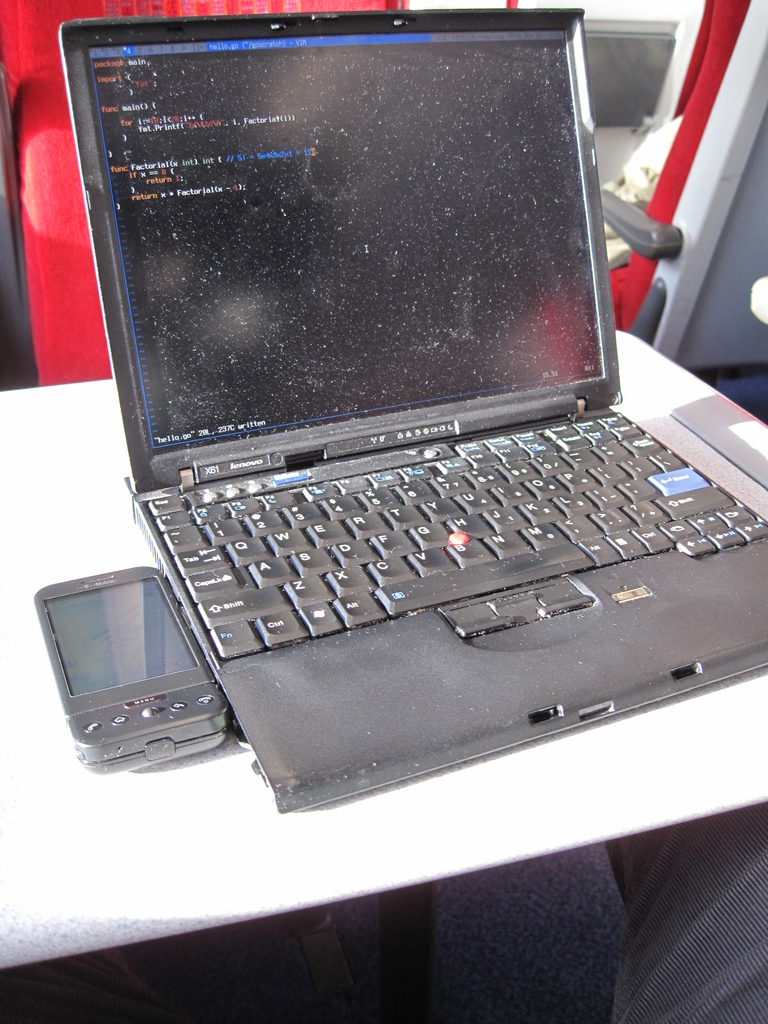Mobile-phone: (36, 563, 230, 776)
